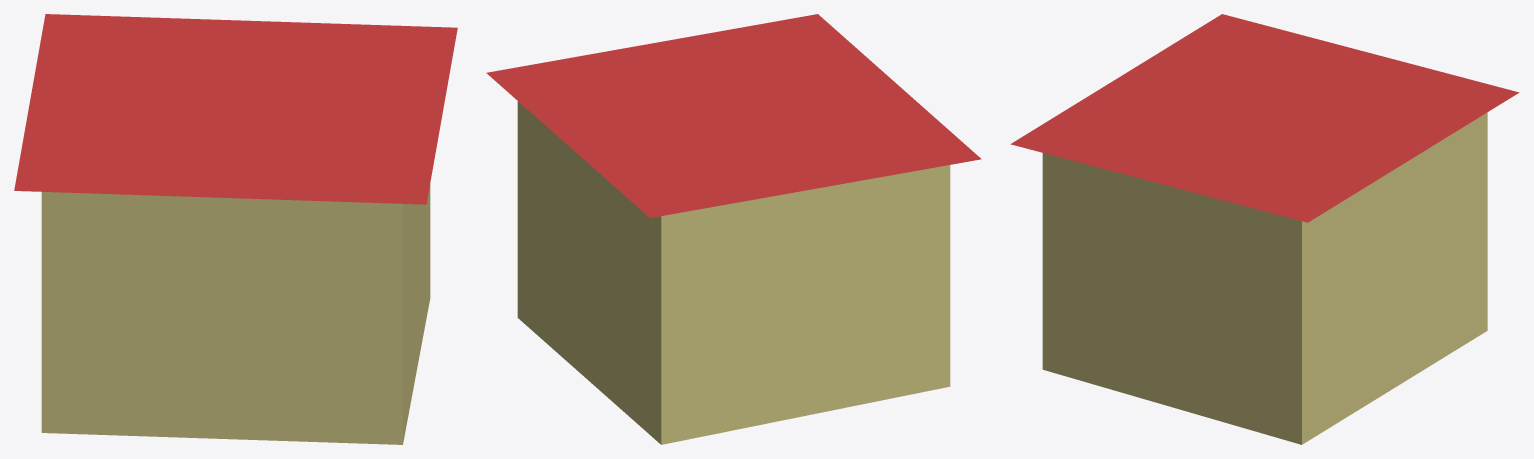
3 views of the same model, side by side, from view 1: azimuth 30°, elevation 25°; view 2: azimuth 150°, elevation 25°; view 3: azimuth 270°, elevation 25° (orthographic). The views are drawn at different scales.
Parts seen in each view (by area): view 1: group_5, group_3, group_4; view 2: group_5, group_3, group_4; view 3: group_5, group_3, group_4.
Part boxes in pixels (x1=…): group_5: x1=41, y1=184, x2=430, y2=444; group_3: x1=14, y1=14, x2=457, y2=204; group_4: x1=45, y1=14, x2=457, y2=71; group_5: x1=517, y1=101, x2=950, y2=444; group_3: x1=488, y1=14, x2=981, y2=217; group_4: x1=486, y1=66, x2=738, y2=217; group_5: x1=1042, y1=112, x2=1487, y2=444; group_3: x1=1010, y1=14, x2=1517, y2=222; group_4: x1=1244, y1=77, x2=1519, y2=222.
Bounding box in the file's own units: 11.07 × 11 × 5.62.
